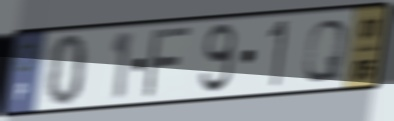0: (43, 32, 91, 109)
1: (109, 30, 135, 104), (266, 18, 290, 91)
9: (198, 21, 240, 97)
F: (140, 24, 197, 101)
Q: (300, 17, 351, 85)
